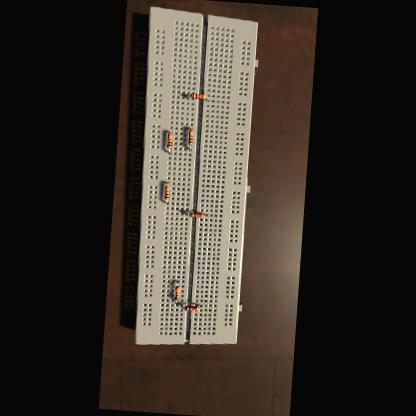breadboard: (126, 5, 262, 350)
resistor: (166, 132, 172, 148), (164, 185, 170, 199), (174, 285, 180, 299), (191, 92, 205, 98), (184, 304, 198, 310), (190, 211, 204, 216), (188, 129, 192, 144)
wire: (180, 304, 184, 308), (187, 94, 190, 99), (168, 148, 170, 152), (206, 96, 208, 100), (198, 304, 200, 308), (166, 200, 168, 202), (186, 213, 189, 214), (167, 182, 168, 184), (176, 299, 177, 301), (204, 213, 206, 214), (190, 128, 191, 129), (170, 131, 170, 133), (178, 280, 178, 284), (190, 144, 190, 149)
